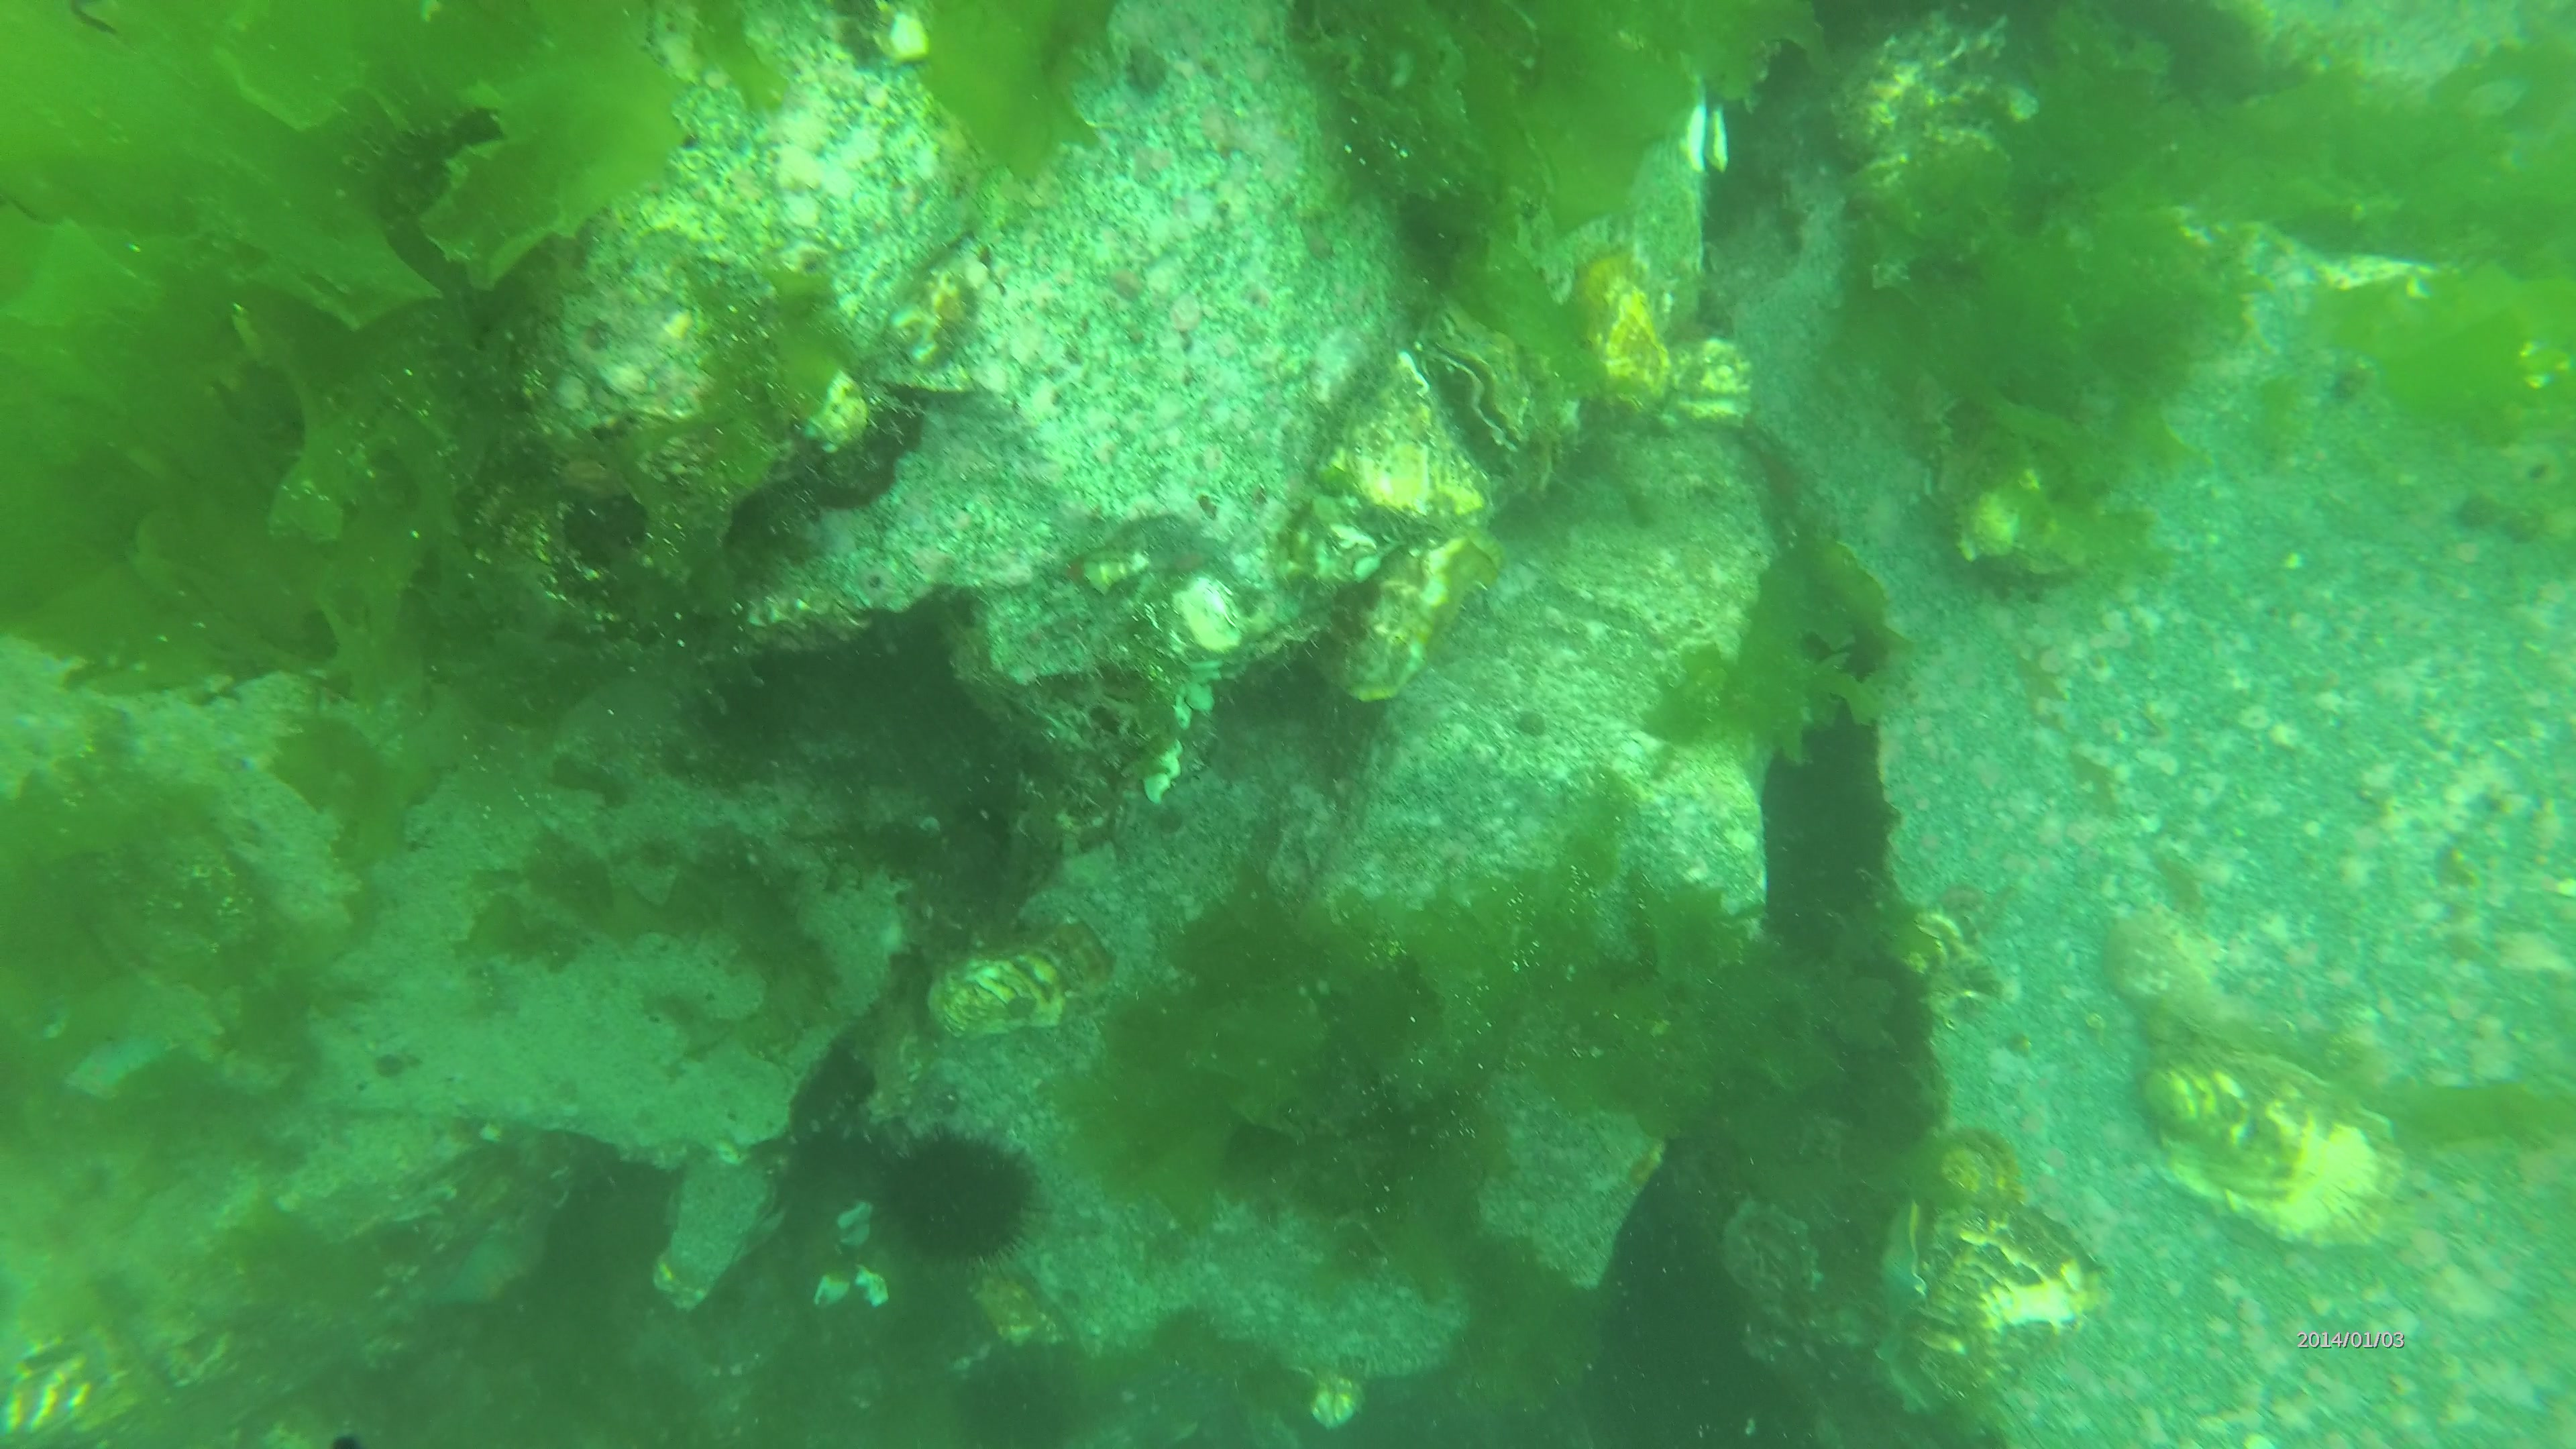echinus: (869, 1129, 1062, 1279)
scallop: (2139, 1047, 2406, 1249), (1905, 1187, 2112, 1414), (924, 895, 1127, 1044), (1569, 246, 1675, 414)
